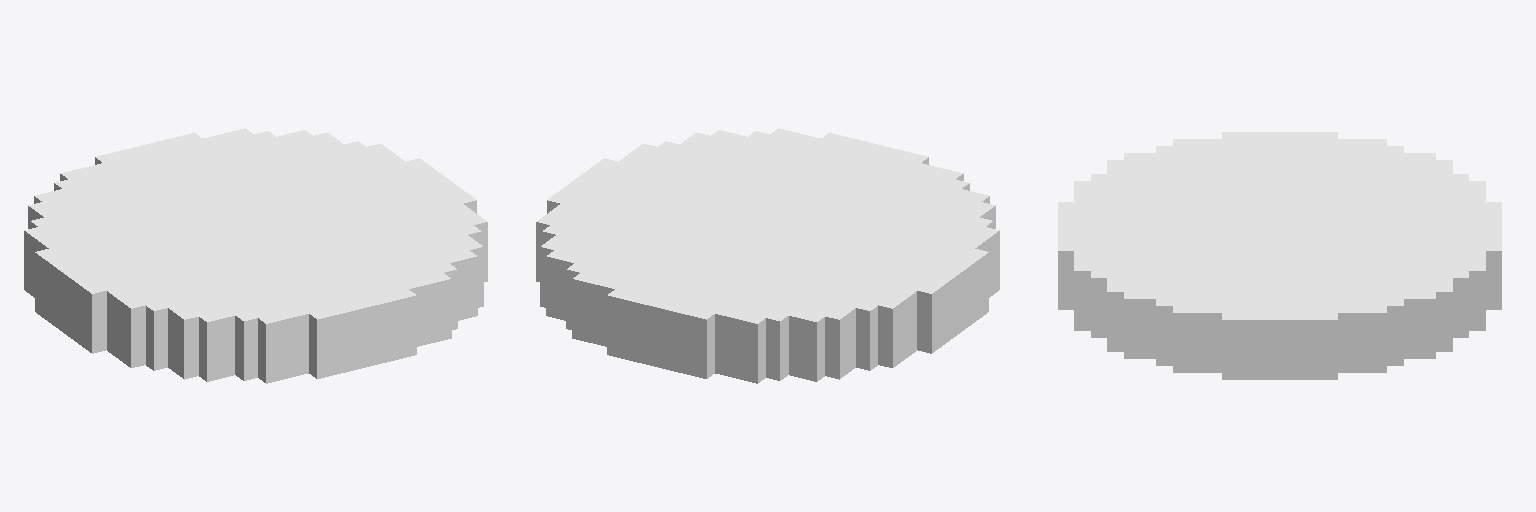
File: siniestro.obj
3 views of the same model, side by side, from view 1: azimuth 30°, elevation 25°; view 2: azimuth 150°, elevation 25°; view 3: azimuth 270°, elevation 25° (orthographic).
Visible parts, largest first — view 1: object 1; view 2: object 1; view 3: object 1.
Part boxes in pixels (left/top/right/bottom): object 1: left=24, top=128, right=487, bottom=383; object 1: left=536, top=128, right=999, bottom=383; object 1: left=1058, top=132, right=1501, bottom=379.
Size of the model in its own units: 2.7 by 0.4 by 2.7.